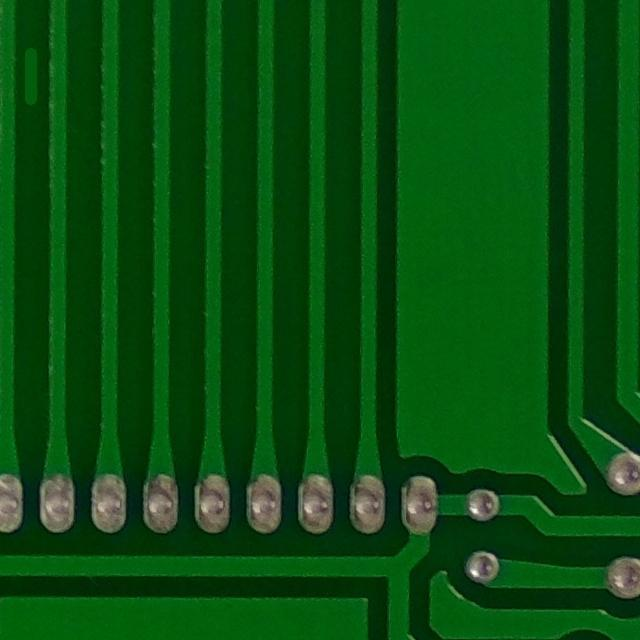spurious_copper: (9, 37, 60, 114)
